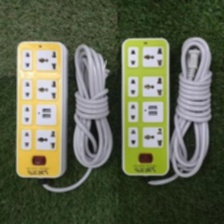three_eye_plug: (14, 39, 72, 180), (118, 34, 172, 178)
